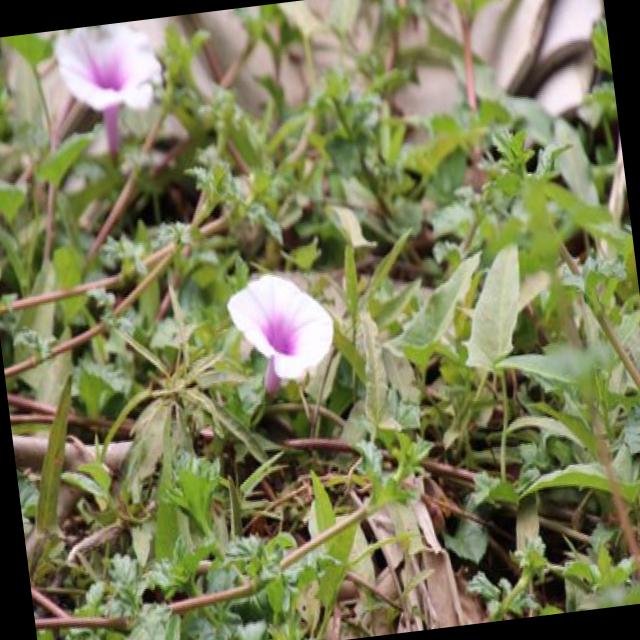ipomoea: (46, 17, 176, 166), (219, 260, 344, 402)
